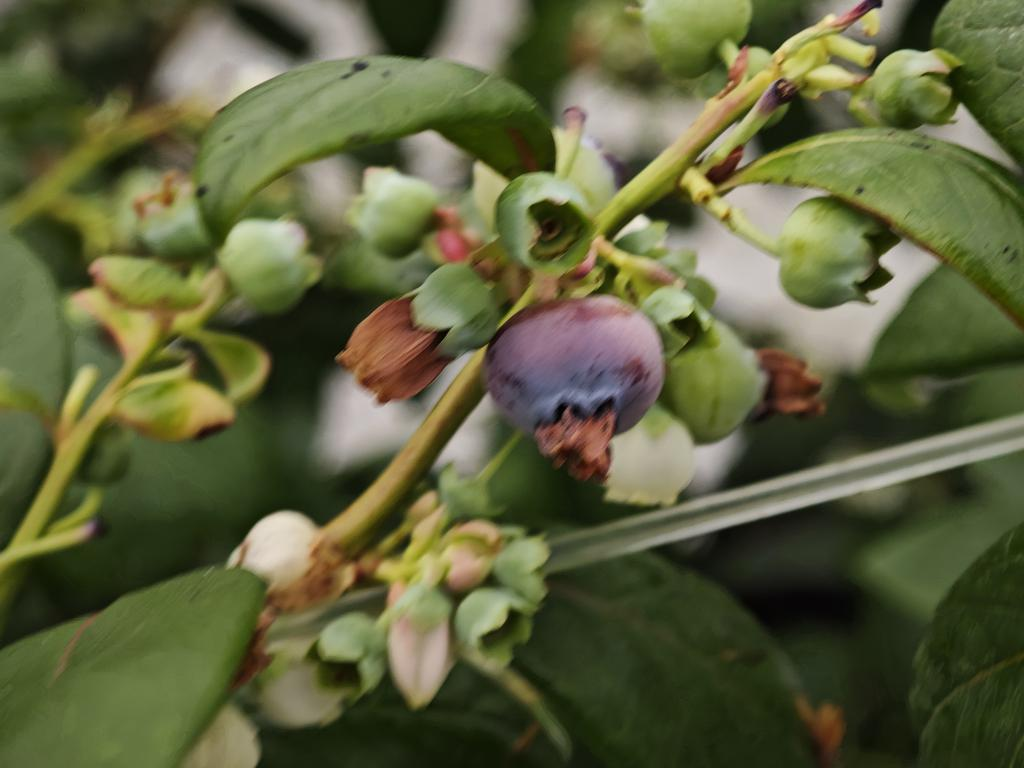Semi-RipeBlueBerry: (485, 296, 668, 444)
